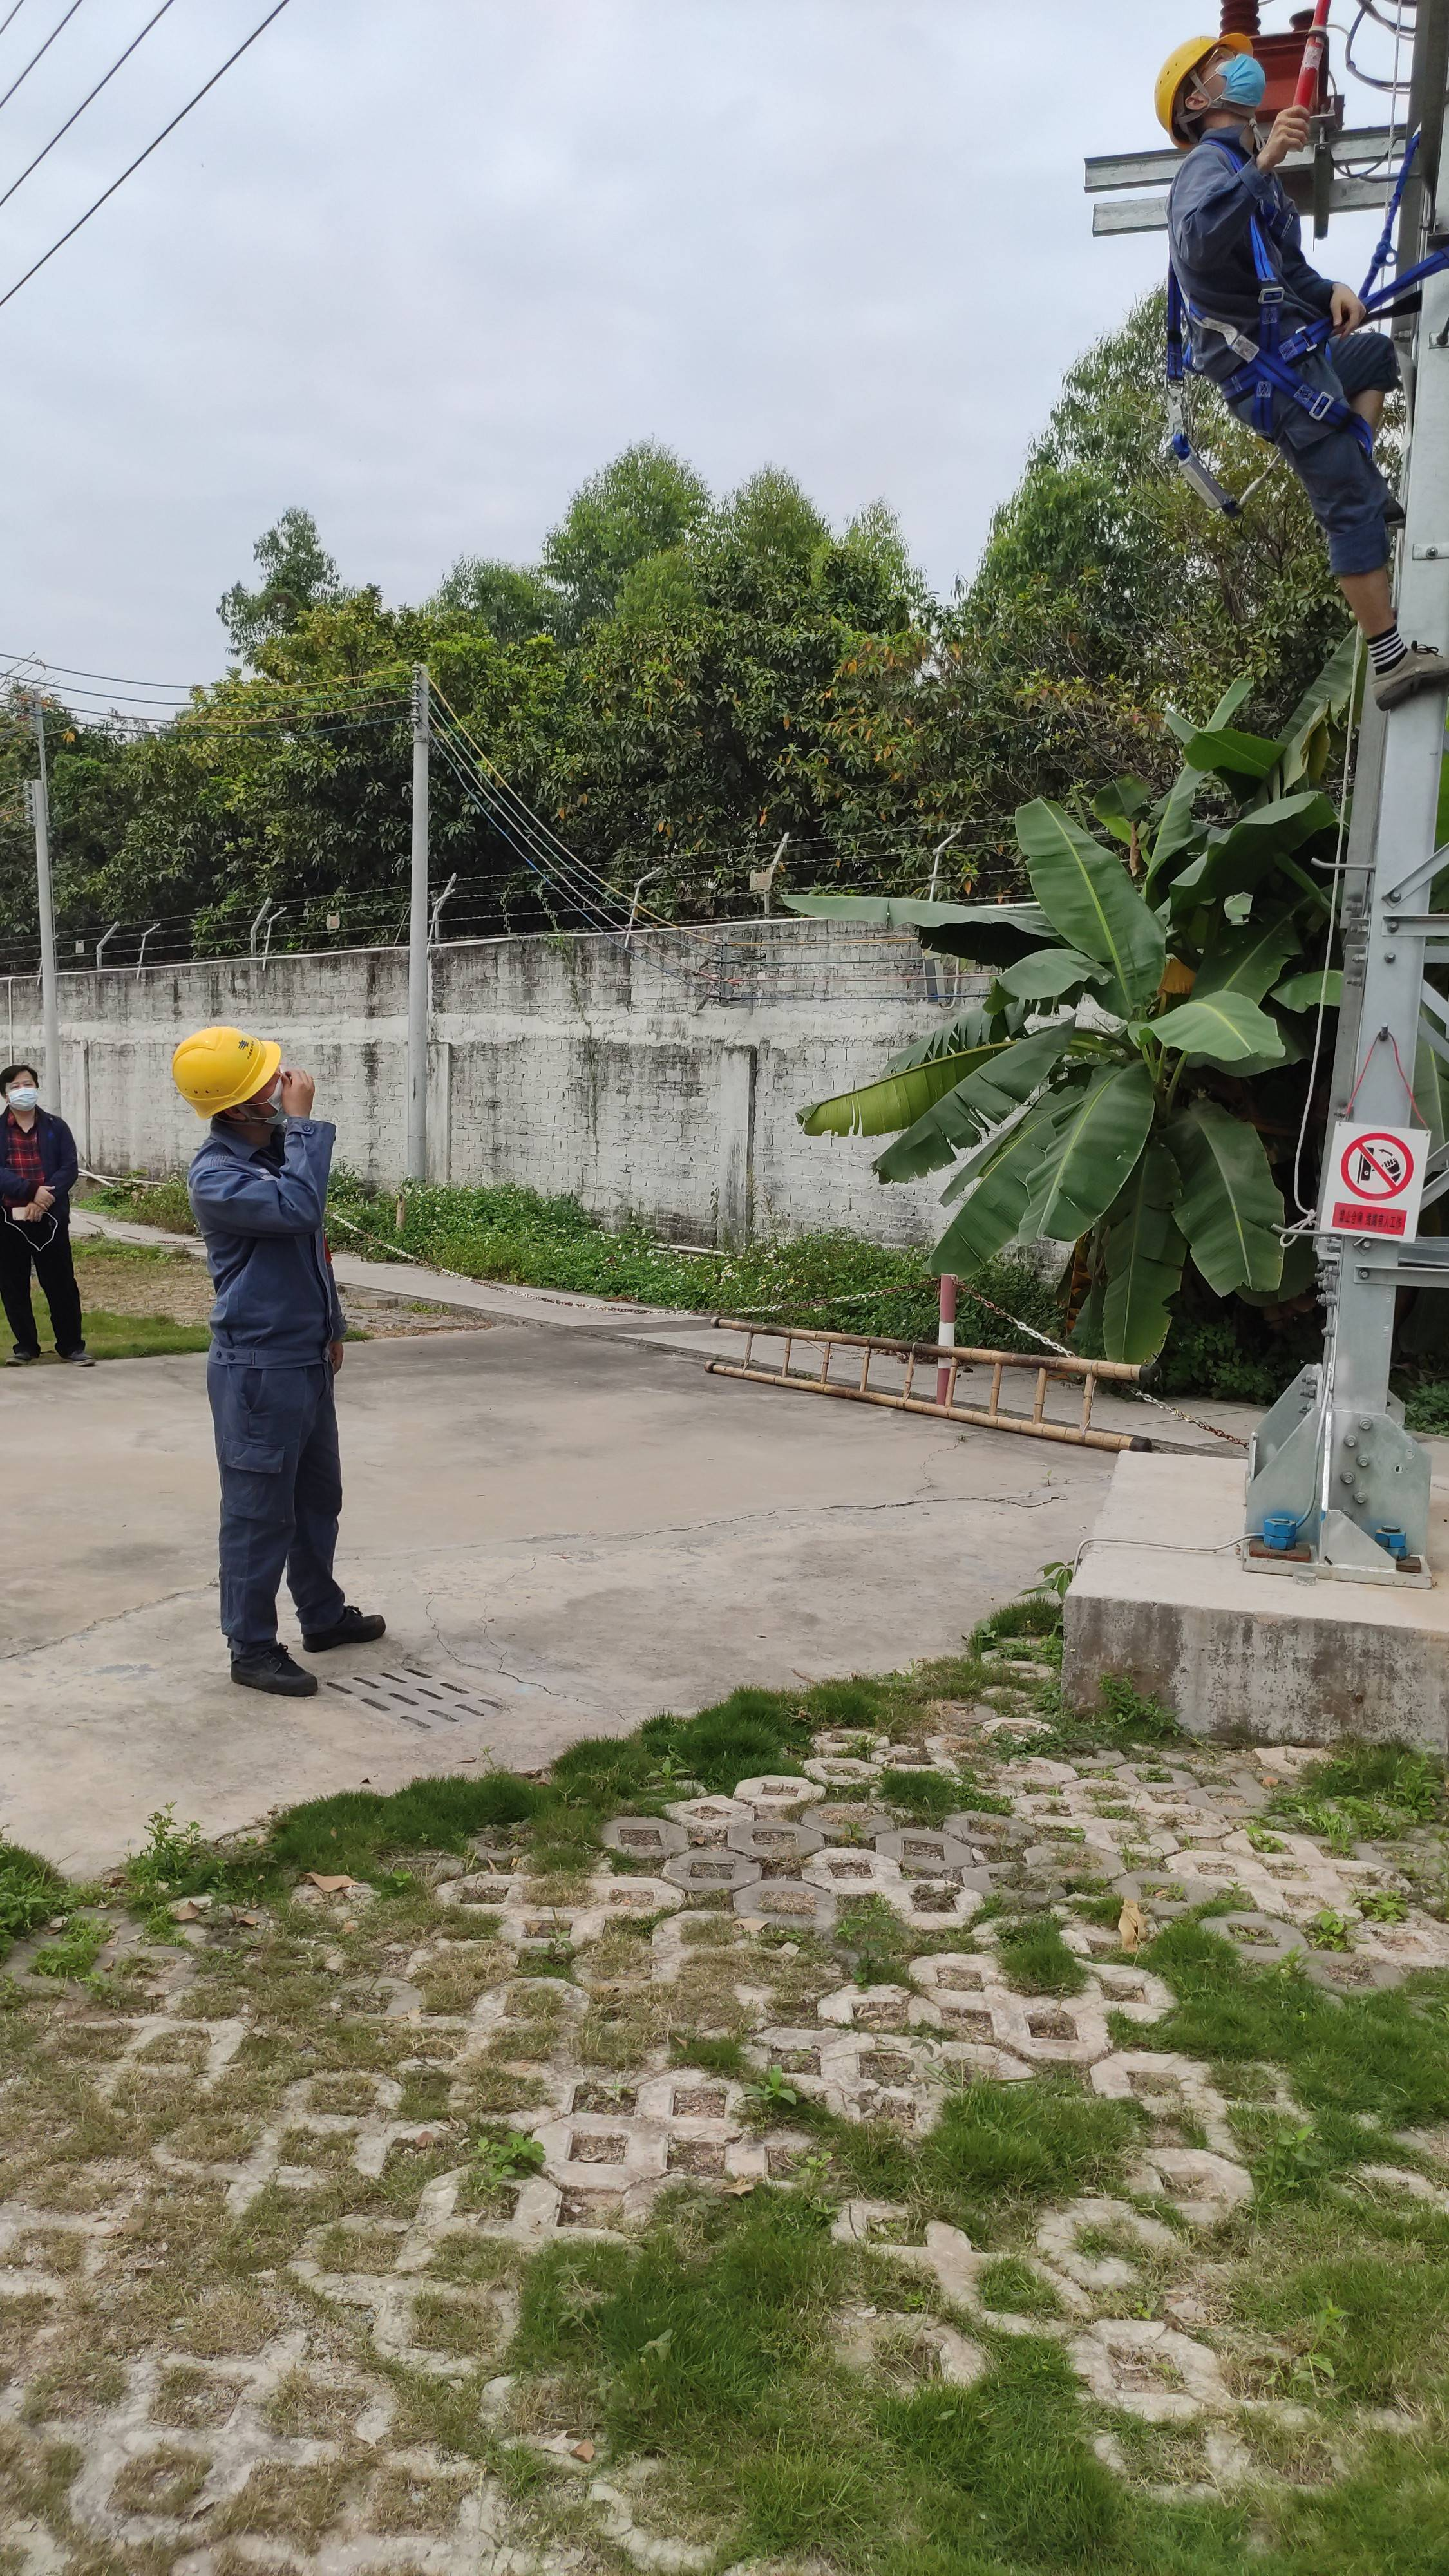downcloth: (7, 1231, 85, 1352)
downsuit: (1223, 345, 1408, 605), (207, 1366, 352, 1644)
upcloth: (7, 1120, 78, 1231)
upsuit: (1155, 136, 1348, 349), (186, 1120, 349, 1355)
wrongbottom: (1329, 527, 1405, 653)
